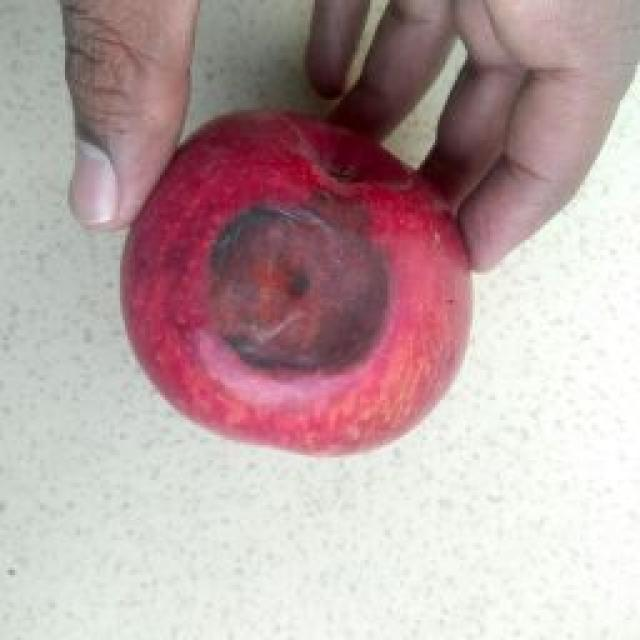Bad_Apple: (121, 112, 471, 454)
